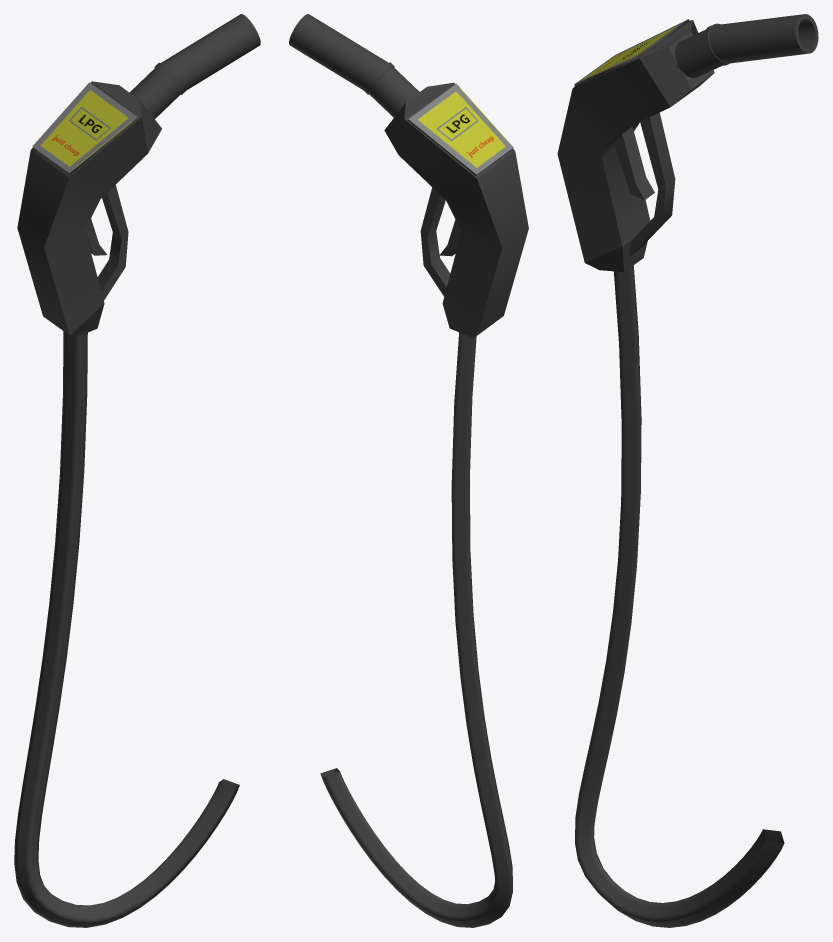
File: pompeLPG.glb
3 views of the same model, side by side, from view 1: azimuth 30°, elevation 25°; view 2: azimuth 150°, elevation 25°; view 3: azimuth 330°, elevation 25° (orthographic). The views are drawn at different scales.
Visible parts, largest first — view 1: Cube.030_Material.022_0.004, Cube.030_95fuel_0.002; view 2: Cube.030_Material.022_0.004, Cube.030_95fuel_0.002; view 3: Cube.030_Material.022_0.004, Cube.030_95fuel_0.002.
Boxes of the visible parts, x1,y1,x2,y2 form: Cube.030_Material.022_0.004: (14,14,260,927); Cube.030_95fuel_0.002: (32,82,137,173); Cube.030_Material.022_0.004: (289,14,528,927); Cube.030_95fuel_0.002: (408,83,513,174); Cube.030_Material.022_0.004: (557,14,818,927); Cube.030_95fuel_0.002: (574,19,687,84).
Bounding box in the file's own units: 0.3811 × 1.39 × 0.1423.
Materials: 2 (1 with a texture image).
